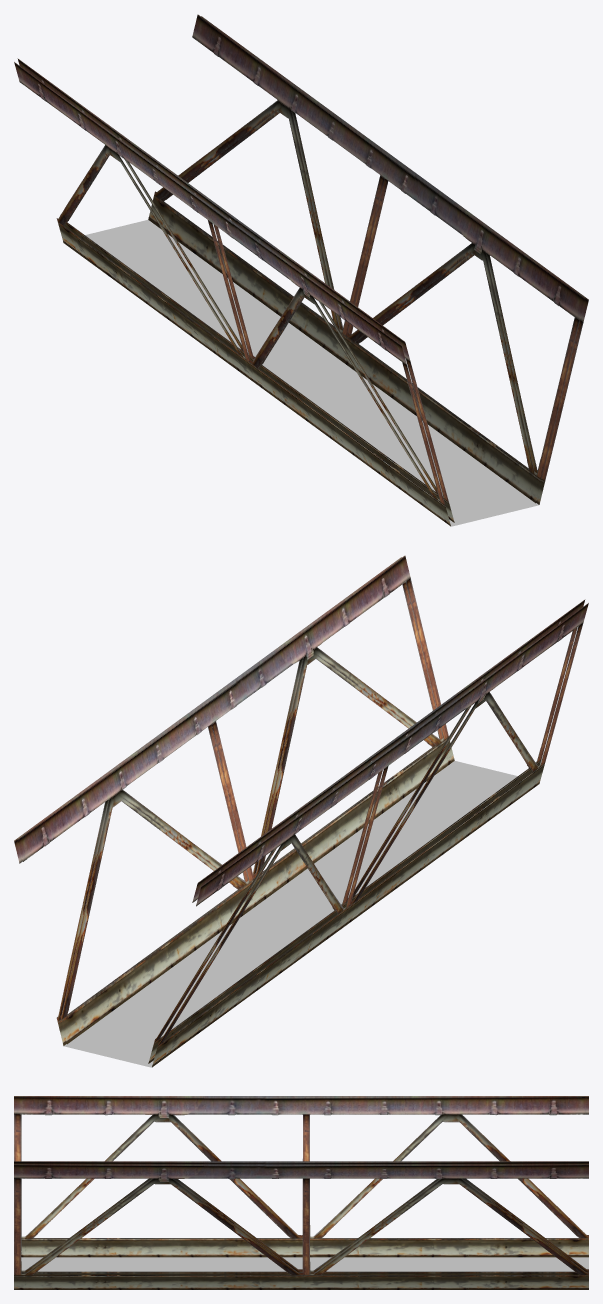
Rendered from Girders_3mts.fbx.
3 renders of one model, top to bottom at view 1: azimuth 30°, elevation 25°; view 2: azimuth 150°, elevation 25°; view 3: azimuth 270°, elevation 25°, orthographic. The views are drawn at different scales.
Parts seen in each view (by area): view 1: girder (×4), solid bar; view 2: girder (×4), solid bar; view 3: girder (×4), solid bar.
Part boxes in pixels (x1,y1,x2,y2): girder (×4): (14,14,588,526); solid bar: (85,220,538,526); girder (×4): (14,555,588,1067); solid bar: (64,761,517,1067); girder (×4): (14,1096,588,1289); solid bar: (21,1257,588,1271).
Size of the model in its own units: 139 by 140 by 500.
